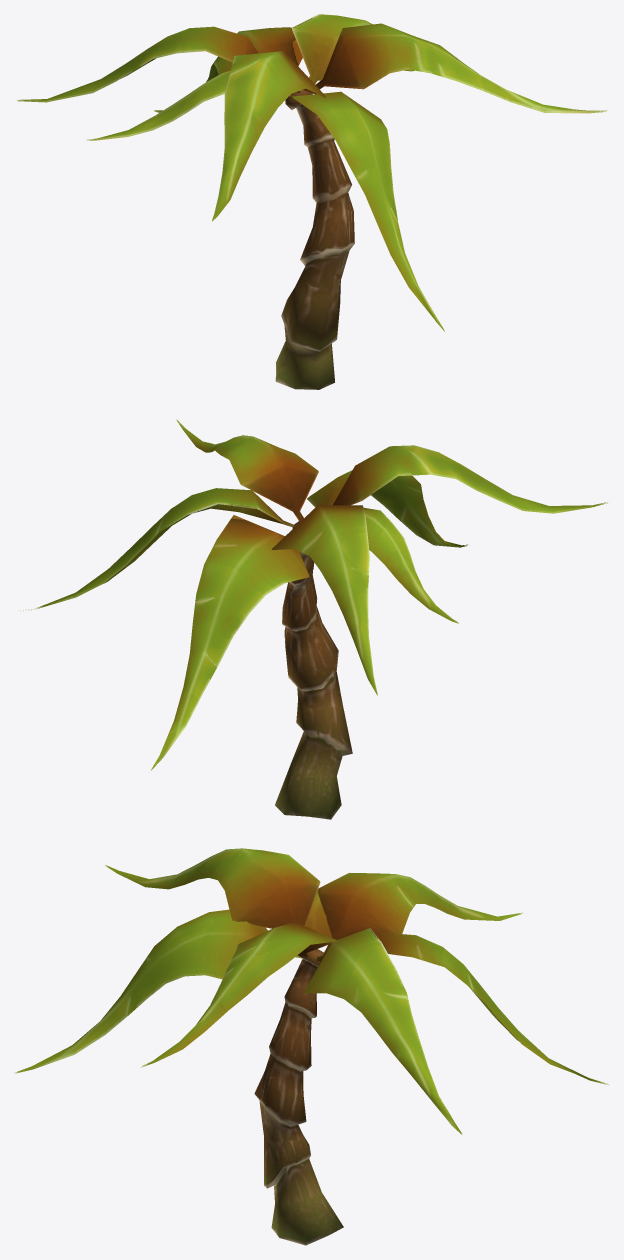
The model's file is Palm.fbx.
3 renders of one model, top to bottom at view 1: azimuth 30°, elevation 25°; view 2: azimuth 150°, elevation 25°; view 3: azimuth 270°, elevation 25°, orthographic. The views are drawn at different scales.
Visible parts, largest first — view 1: BezierCurve.028_CUBezierCurve.028_None.001_0.001; view 2: BezierCurve.028_CUBezierCurve.028_None.001_0.001; view 3: BezierCurve.028_CUBezierCurve.028_None.001_0.001.
Boxes of the visible parts, bbox=[...] form: BezierCurve.028_CUBezierCurve.028_None.001_0.001: bbox=[17, 14, 607, 389]; BezierCurve.028_CUBezierCurve.028_None.001_0.001: bbox=[23, 419, 607, 819]; BezierCurve.028_CUBezierCurve.028_None.001_0.001: bbox=[15, 848, 608, 1245].
Size of the model in its own units: 4687 by 3865 by 5965.
Materials: 2 (2 with a texture image).
